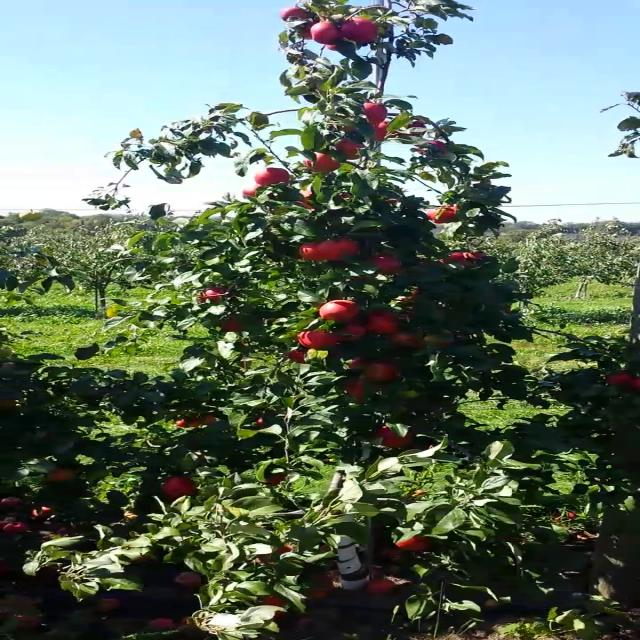apple: (355, 309, 401, 335), (340, 16, 380, 44), (317, 299, 363, 323), (297, 329, 340, 349), (163, 475, 197, 499), (318, 239, 358, 259), (256, 544, 294, 565), (376, 426, 411, 448), (310, 22, 342, 46), (253, 166, 291, 186), (362, 362, 399, 382), (385, 329, 426, 347), (260, 593, 288, 619), (302, 154, 341, 172), (394, 535, 433, 553), (362, 100, 388, 126), (334, 139, 366, 159), (296, 243, 327, 261), (278, 5, 310, 22), (369, 254, 400, 271), (45, 468, 79, 482), (340, 323, 366, 341), (426, 208, 455, 224), (299, 20, 321, 40), (604, 370, 631, 385), (344, 377, 364, 397), (297, 188, 315, 210), (324, 40, 356, 52), (439, 250, 465, 264), (265, 471, 288, 486), (204, 287, 228, 301), (424, 334, 454, 344), (374, 122, 388, 141), (217, 320, 239, 332), (174, 418, 200, 428), (553, 510, 578, 520), (461, 252, 490, 260), (405, 120, 427, 130), (287, 350, 305, 362), (348, 358, 366, 370), (243, 186, 257, 198), (202, 414, 218, 424), (258, 418, 272, 427), (629, 377, 639, 388), (431, 141, 444, 149), (442, 205, 458, 211)
